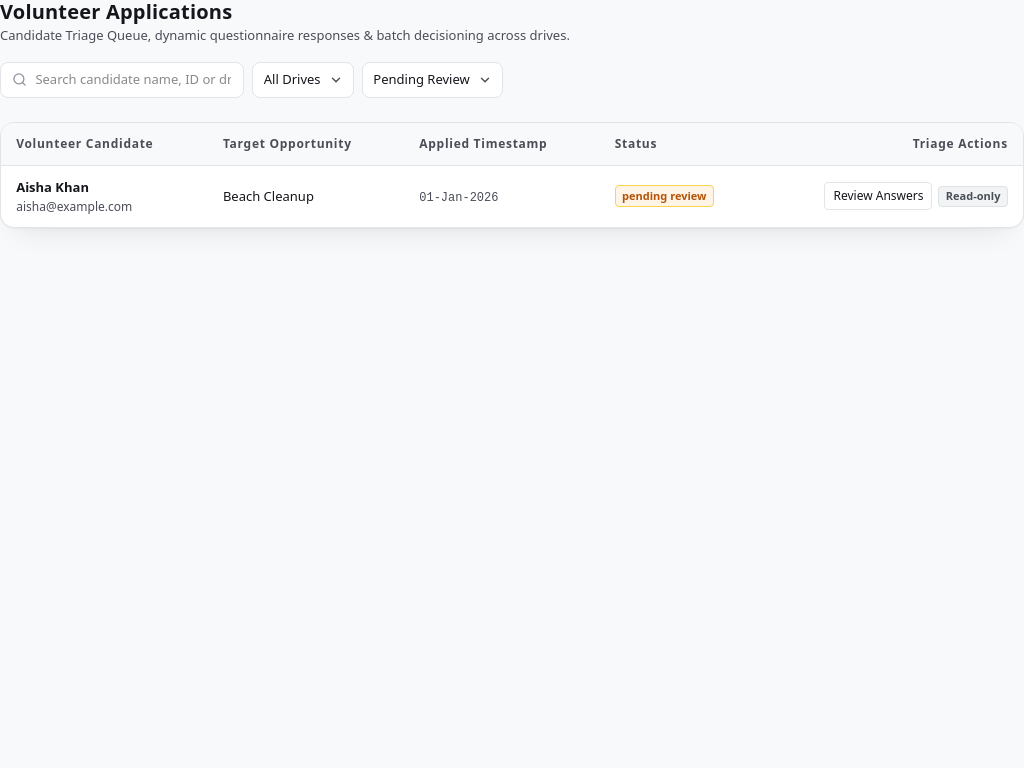
Test: YouthRepublicApplicationsPage › action button permissions gating › hides decision buttons in ApplicationReviewDrawer when user lacks canTriageApplications
Expected: the button "Aisha Khan" is shown, [16,178,89,197]
Click the button "Review Answers".
click(878, 196)  # box [824,182,932,210]
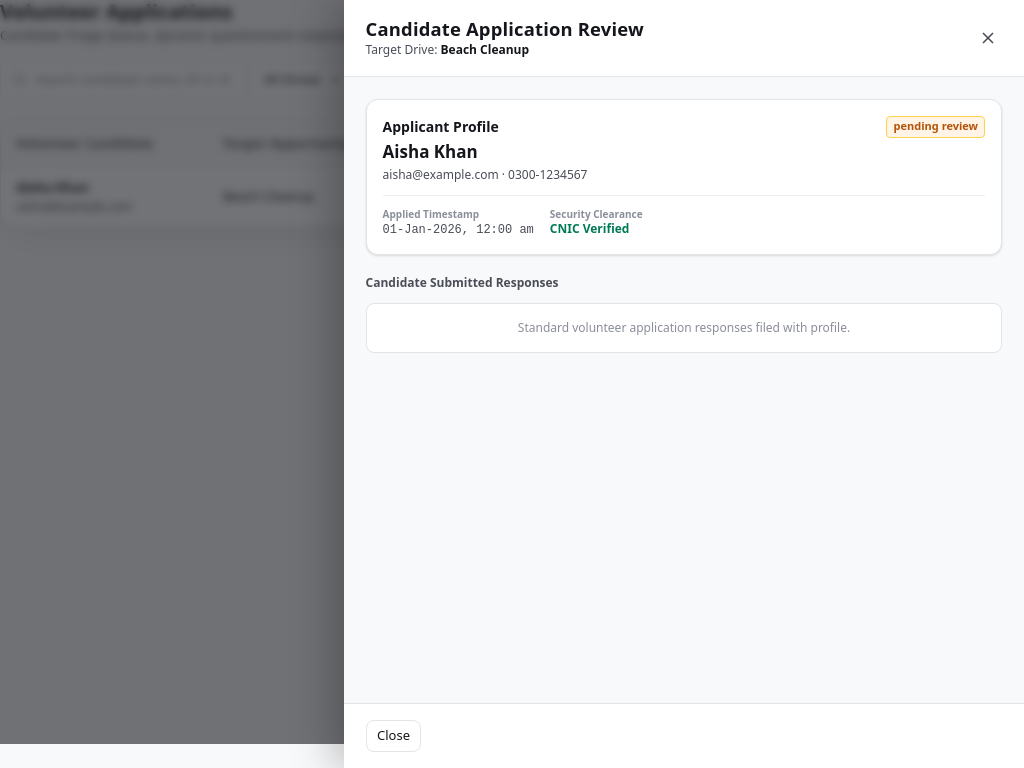
Now the dialog is shown
Now the text "Candidate Application Review" is shown, box [366,18,644,40]
Now the button "Close" is shown, box [366,720,421,752]
